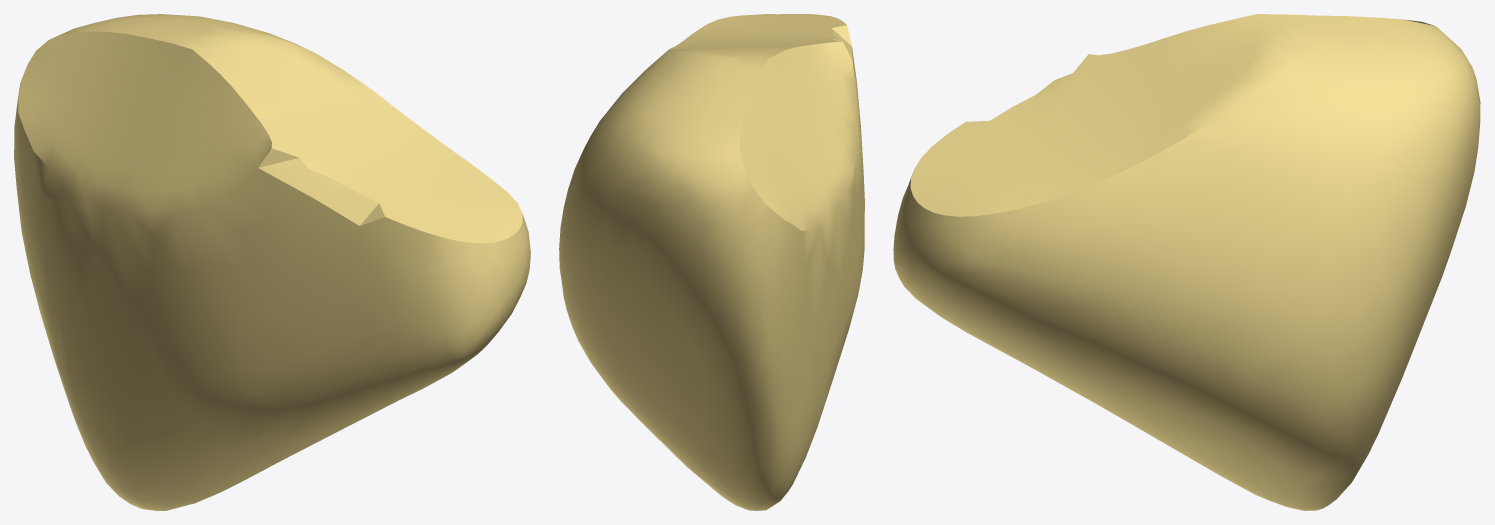
File: fma73406_mm2914.glb
The picture shows the model from 3 angles, left to right: view 1: azimuth 30°, elevation 25°; view 2: azimuth 150°, elevation 25°; view 3: azimuth 270°, elevation 25°; orthographic projection. The views are drawn at different scales.
Parts seen in each view (by area): view 1: FMA73406_MM2914; view 2: FMA73406_MM2914; view 3: FMA73406_MM2914.
Part boxes in pixels (bbox=[...]): FMA73406_MM2914: bbox=[14, 14, 530, 510]; FMA73406_MM2914: bbox=[559, 14, 864, 510]; FMA73406_MM2914: bbox=[893, 14, 1480, 510].
Bounding box in the file's own units: 0.00505 × 0.00752 × 0.00808.
